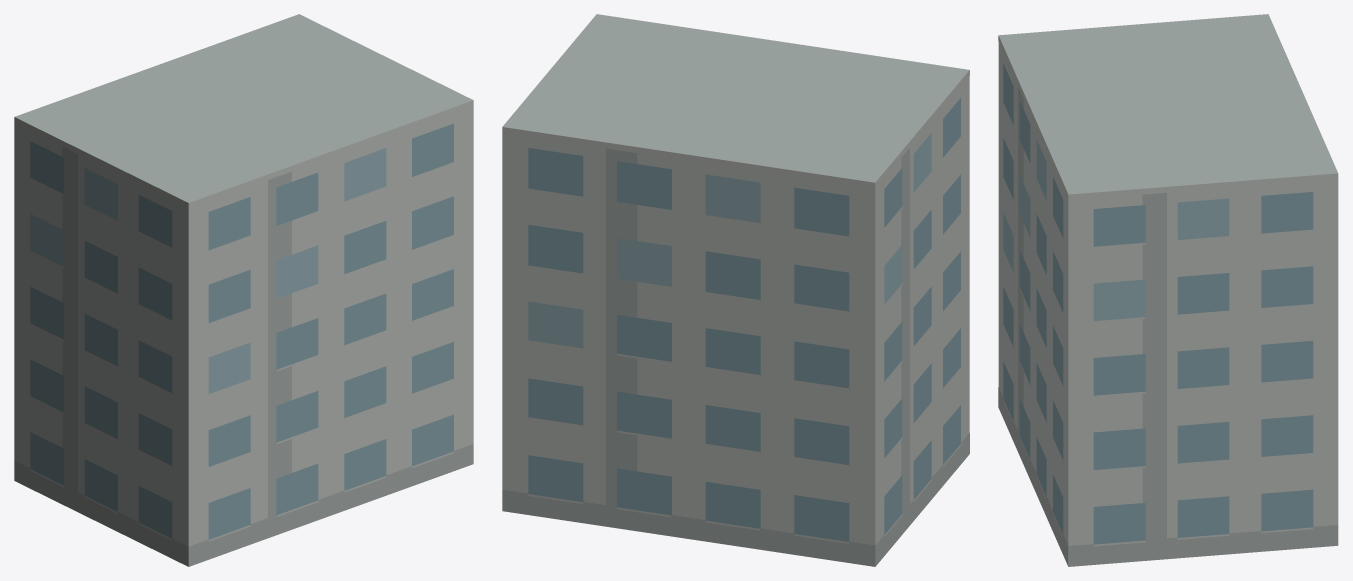
File: residential-29ec858d-5832-4cf3-adba-0b563993ff70.glb
3 renders of one model, left to right at view 1: azimuth 30°, elevation 25°; view 2: azimuth 150°, elevation 25°; view 3: azimuth 270°, elevation 25°, orthographic. The views are drawn at different scales.
Visible parts, largest first — view 1: residential-29ec858d-5832-4cf3-adba-0b563993ff70.tmp; view 2: residential-29ec858d-5832-4cf3-adba-0b563993ff70.tmp; view 3: residential-29ec858d-5832-4cf3-adba-0b563993ff70.tmp.
Part boxes in pixels (<box>): residential-29ec858d-5832-4cf3-adba-0b563993ff70.tmp: <box>14,14,473,566</box>; residential-29ec858d-5832-4cf3-adba-0b563993ff70.tmp: <box>502,14,969,566</box>; residential-29ec858d-5832-4cf3-adba-0b563993ff70.tmp: <box>998,14,1338,566</box>.
Bounding box in the file's own units: 15.87 × 15.25 × 12.62.
